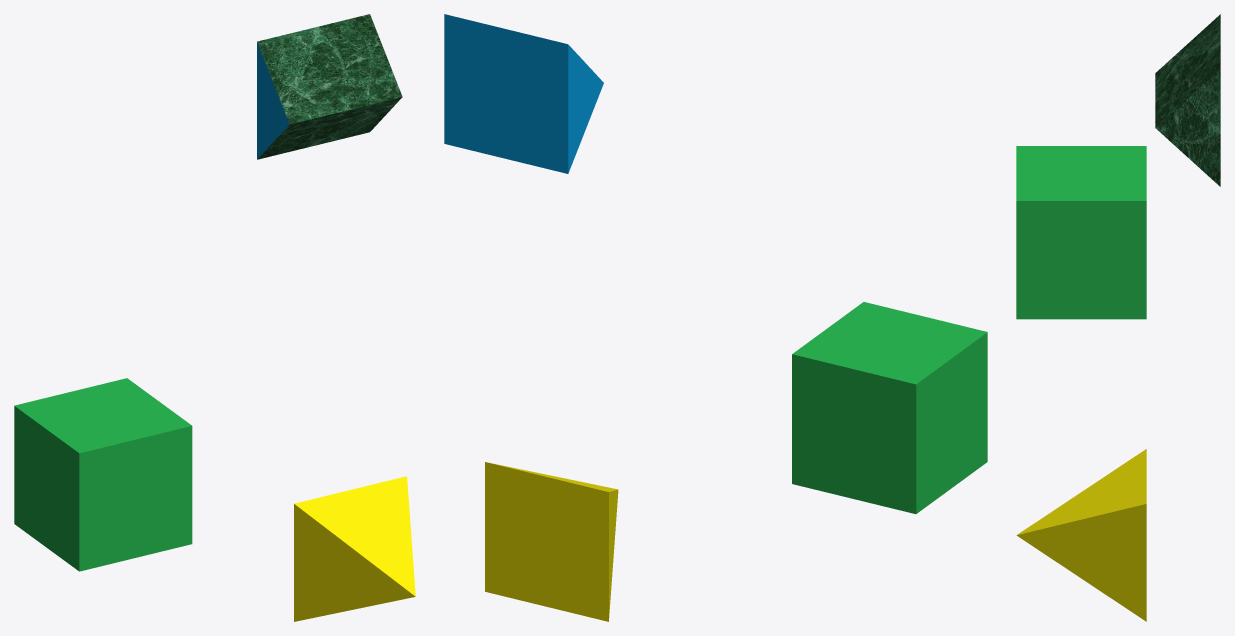
Rendered from multipleobjects.obj.
3 views of the same model, side by side, from view 1: azimuth 30°, elevation 25°; view 2: azimuth 150°, elevation 25°; view 3: azimuth 270°, elevation 25° (orthographic). The views are drawn at different scales.
Visible parts, largest first — view 1: Object.1, Object.3, Object.2; view 2: Object.1, Object.3, Object.2; view 3: Object.1, Object.2, Object.3.
Part boxes in pixels (box(x1,y1,x2,y2)): Object.1: box(14, 378, 192, 571); Object.3: box(257, 14, 402, 159); Object.2: box(294, 476, 415, 621); Object.1: box(792, 302, 987, 513); Object.3: box(444, 14, 603, 173); Object.2: box(485, 462, 618, 621); Object.1: box(1016, 146, 1146, 319); Object.2: box(1016, 449, 1146, 621); Object.3: box(1155, 14, 1220, 186).
Bounding box in the file's own units: 139 × 187 × 62.69.
4 materials, 1 textured.
